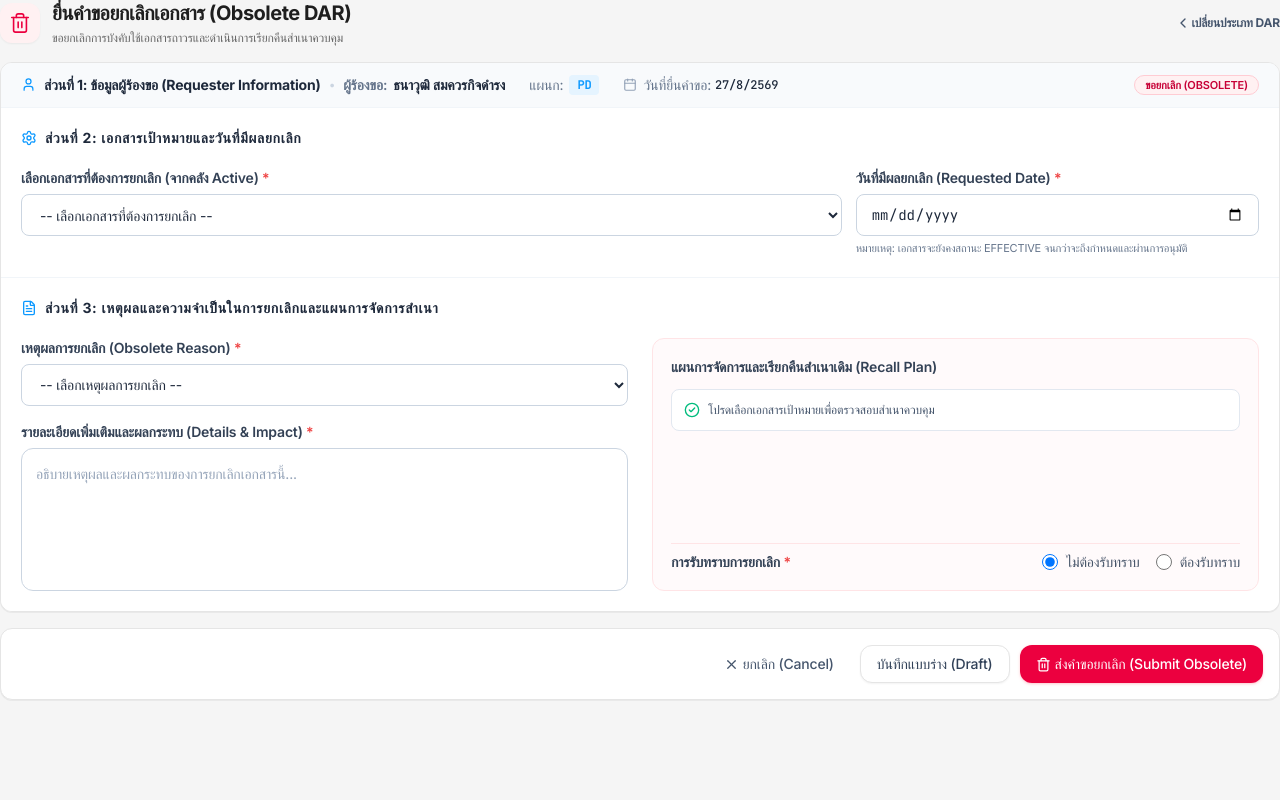
Test: Enterprise Form Layout Harmonization Tests (DAR Revision & Obsolete) › 2. DarObsoleteForm Harmonized Layout › enforces recall plan for documents with controlled copies and handles obsolete submission
The width and height of the screenshot is (1280, 800).
// Select SOP-PD-01 (which has 3 controlled copies)
Select "[SOP-PD-01] ขั้นตอนการผลิตสาย 1 (Rev. 00)" in the dropdown below "วันที่มีผลยกเลิก (Requested Date)" at (431, 215), box [21, 194, 842, 236]
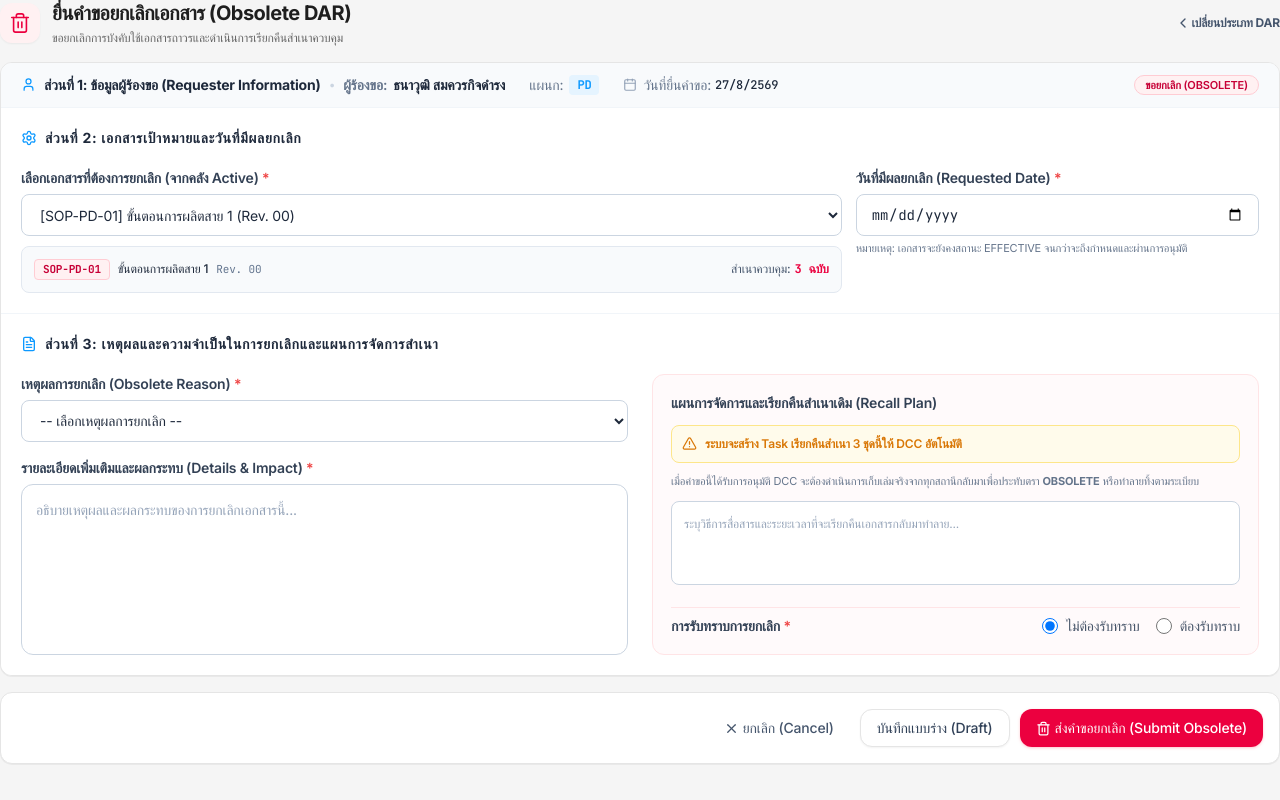
Check: the text "3 ฉบับ" is shown, box [795, 262, 829, 278]
// Fill Reason & Detail
Select "ยกเลิกกระบวนการทำงานดังกล่าวแล้ว (Process Discontinued)" in the dropdown below "เหตุผลการยกเลิก (Obsolete Reason)" at (324, 421), box [21, 400, 628, 442]
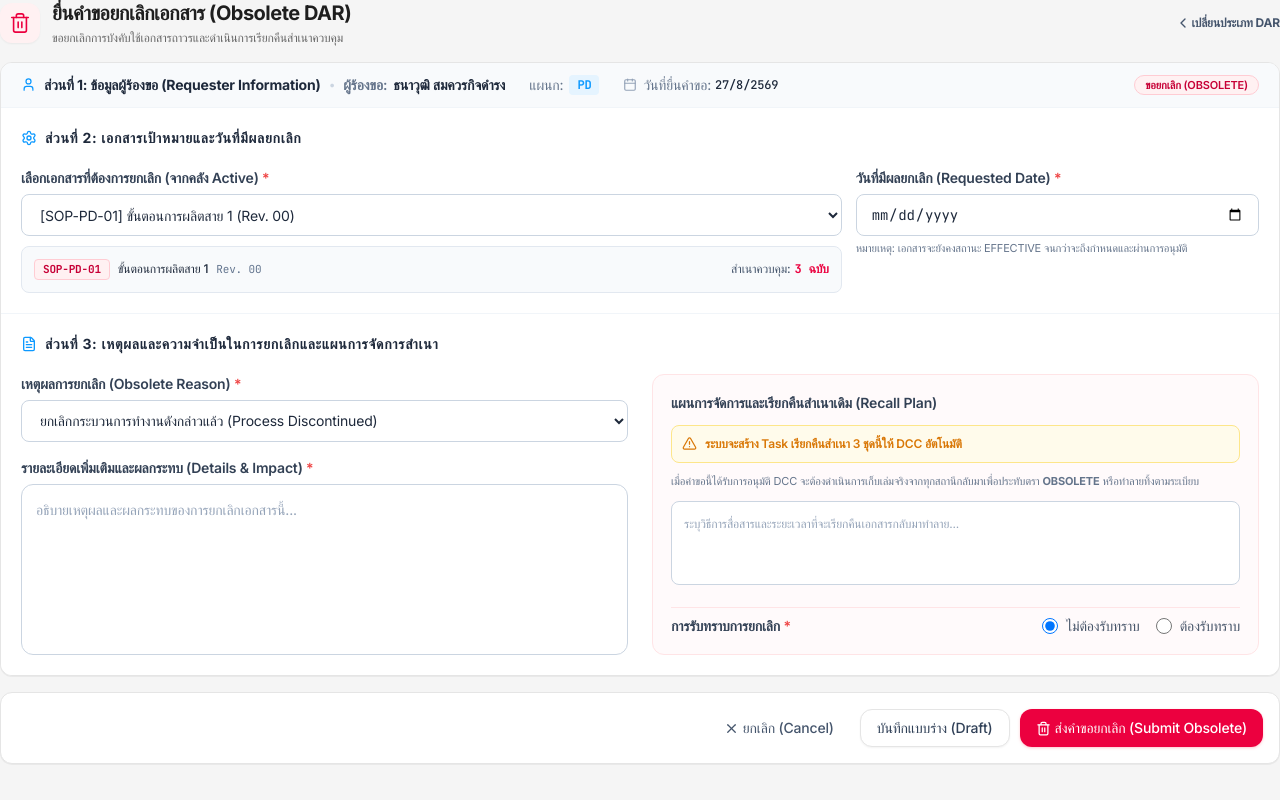
Type "ยกเลิกสายการผลิต 1 เปลี่ยนเป็นระบบอัตโนมัติ" into the text box with placeholder "อธิบายเหตุผลและผลกระทบของการยกเลิกเอกสารนี้..." at (324, 570), box [21, 484, 628, 655]
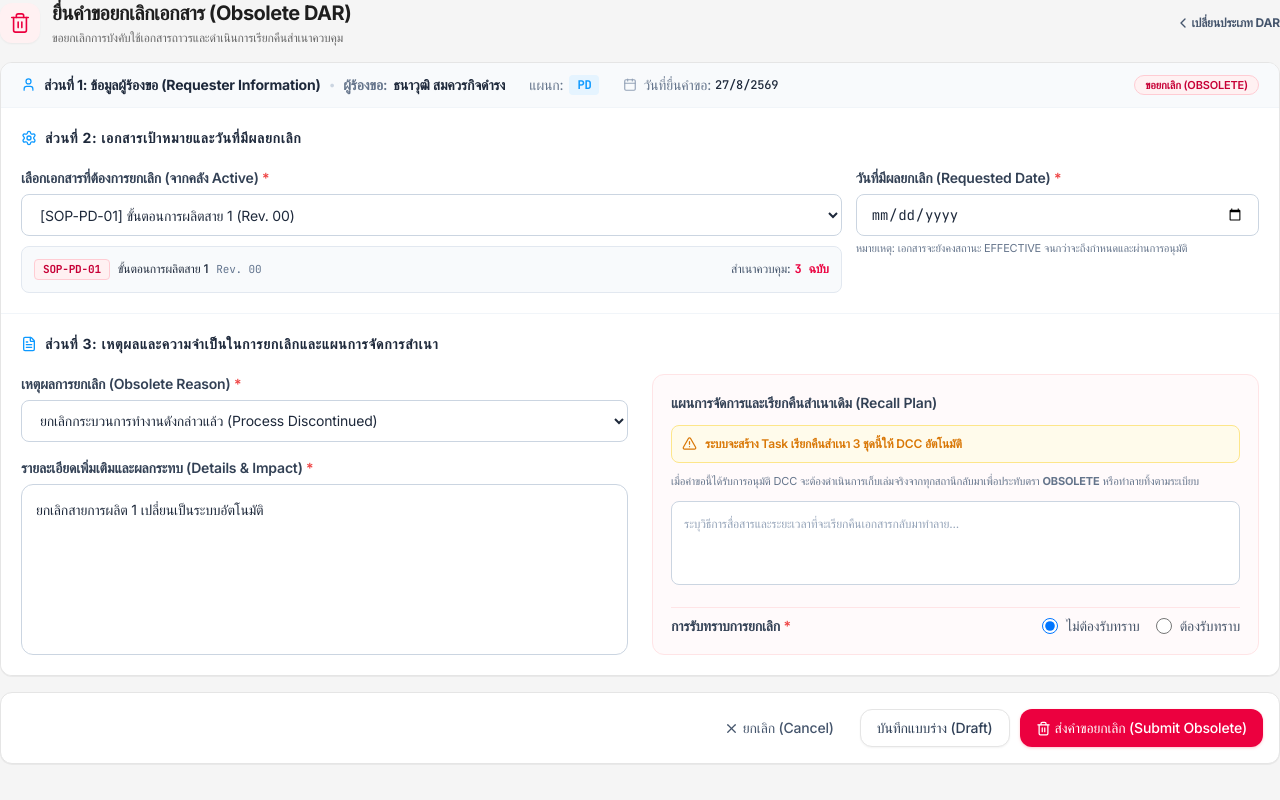
Replace the text in the text box with placeholder "ระบุวิธีการสื่อสารและระยะเวลาที่จะเรียกคืนเอกสารกลับมาทำลาย" with "แจ้งหัวหน้าแผนกส่งคืนสำเนา 3 ฉบับให้ DCC ภายใน 7 วัน" at (956, 543), box [671, 501, 1240, 585]
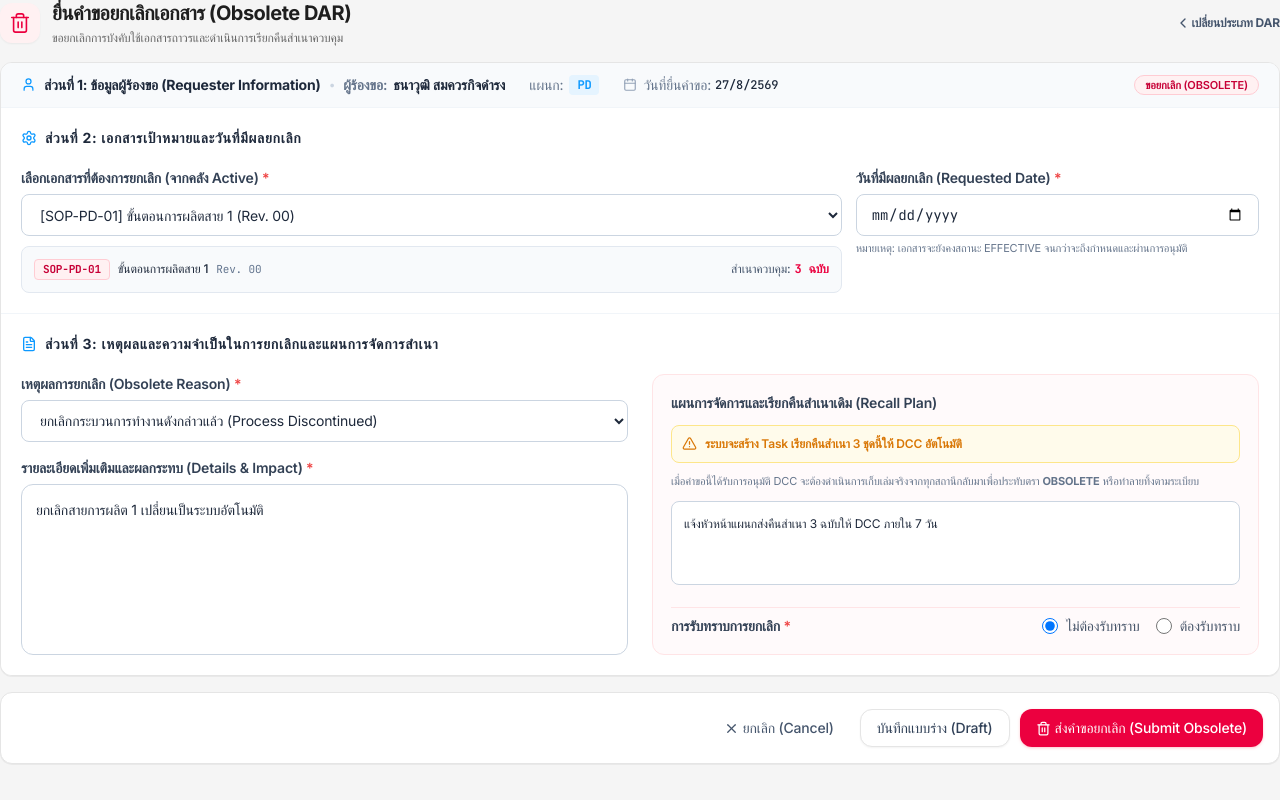
Type "2026-08-30" into the date field at (1057, 215), box [856, 194, 1259, 236]
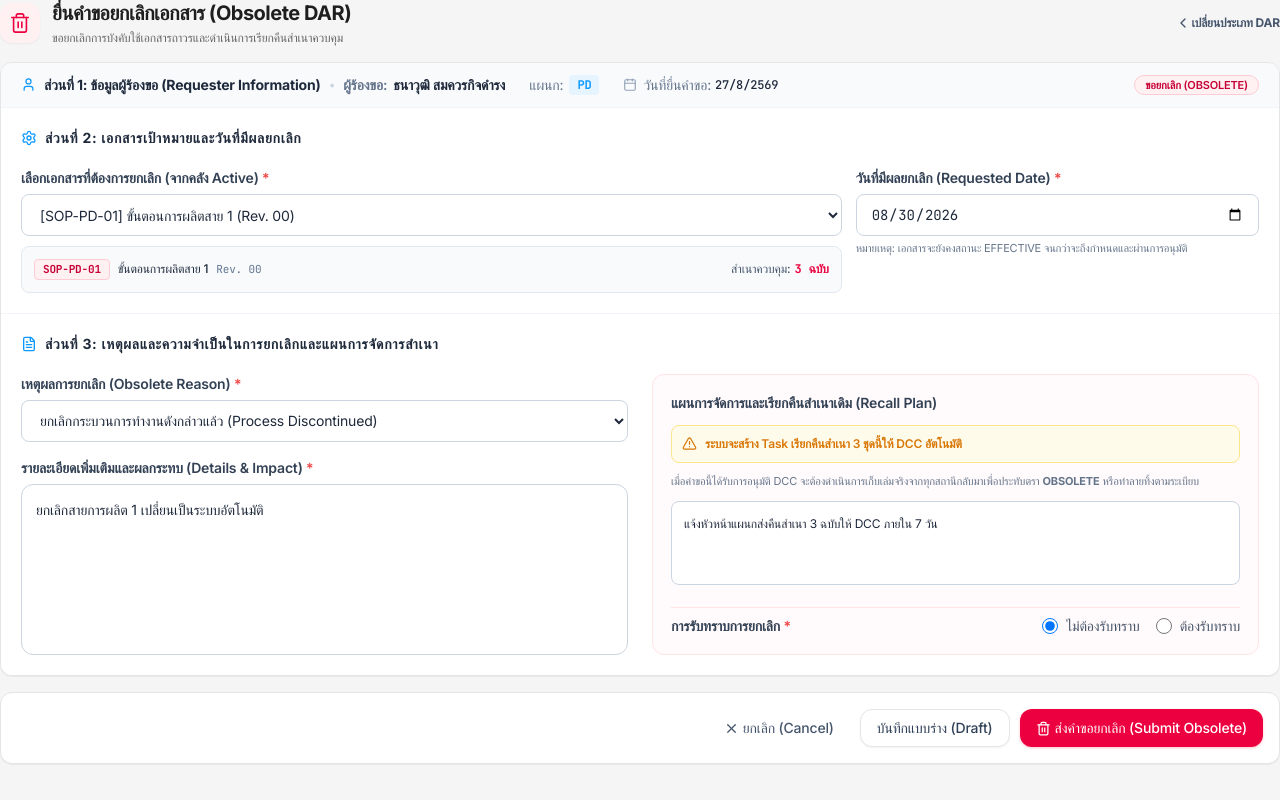
Click the button "ส่งคำขอยกเลิก (Submit Obsolete)" at (1141, 728), box [1020, 709, 1263, 747]
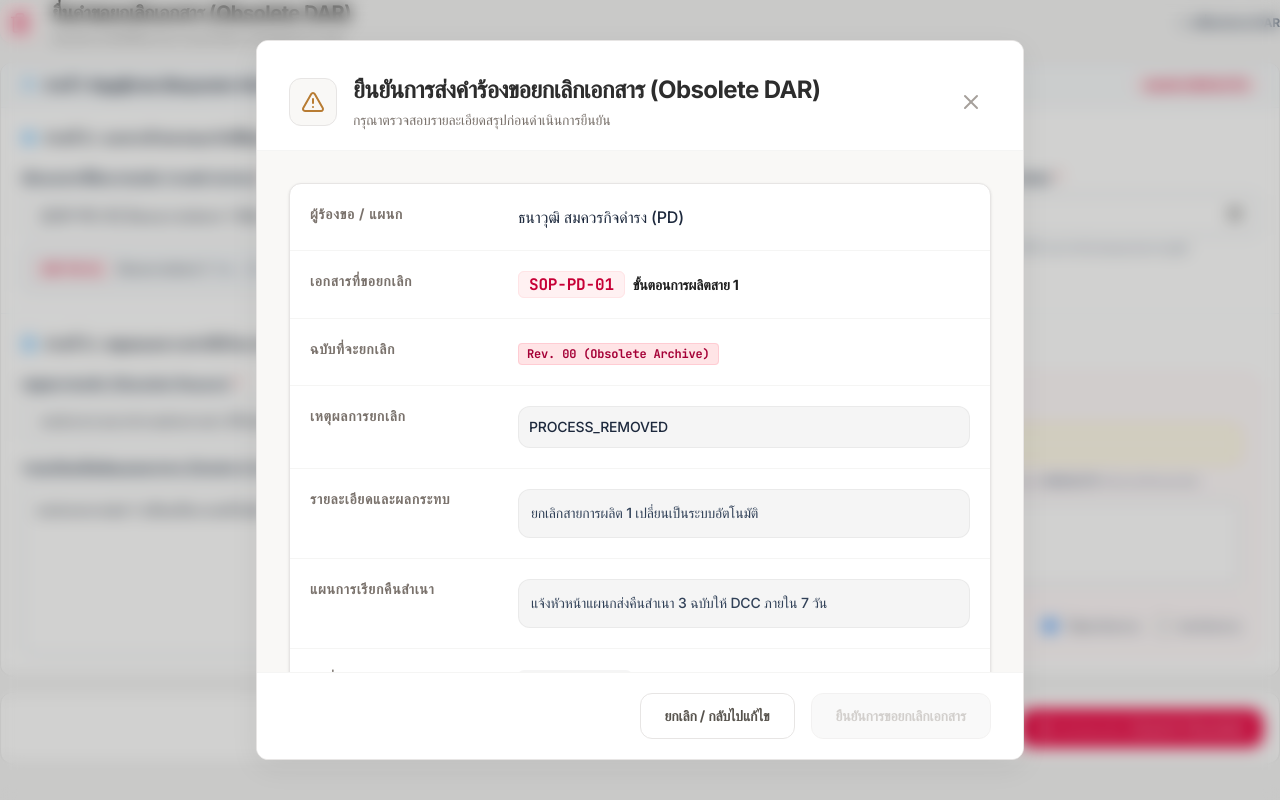
Check: the heading "ยืนยันการส่งคำร้องขอยกเลิกเอกสาร (Obsolete DAR)" is shown, box [353, 73, 820, 106]
